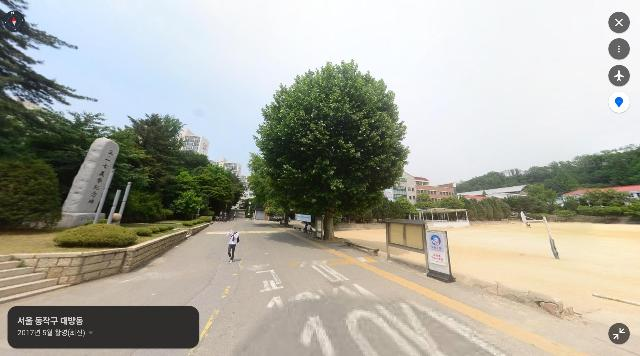other: (251, 59, 411, 242), (0, 0, 101, 123), (122, 112, 196, 221), (153, 153, 243, 220), (151, 173, 207, 225), (561, 187, 640, 222), (493, 185, 546, 223)
